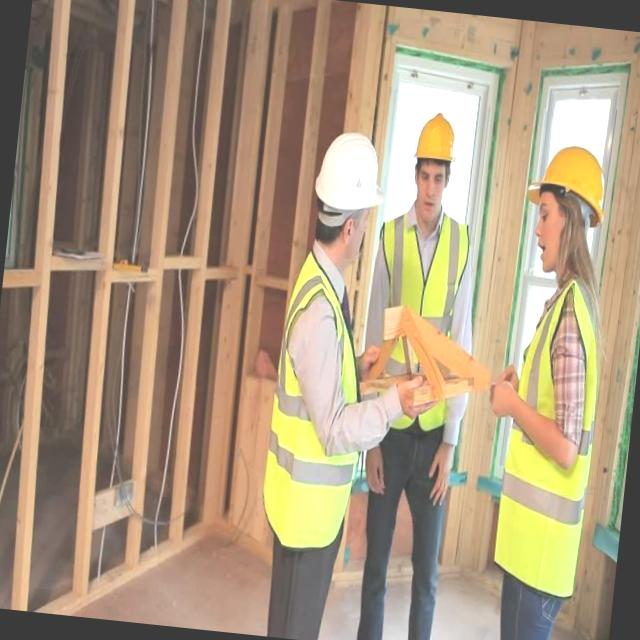helmet: (300, 118, 394, 229), (520, 127, 616, 226), (406, 100, 466, 175)
vest: (490, 268, 612, 604), (255, 238, 382, 556), (358, 204, 478, 449)
